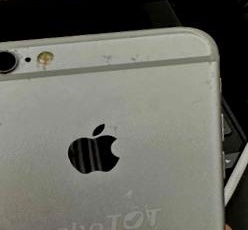scratch: (0, 1, 235, 111), (0, 113, 9, 137)
